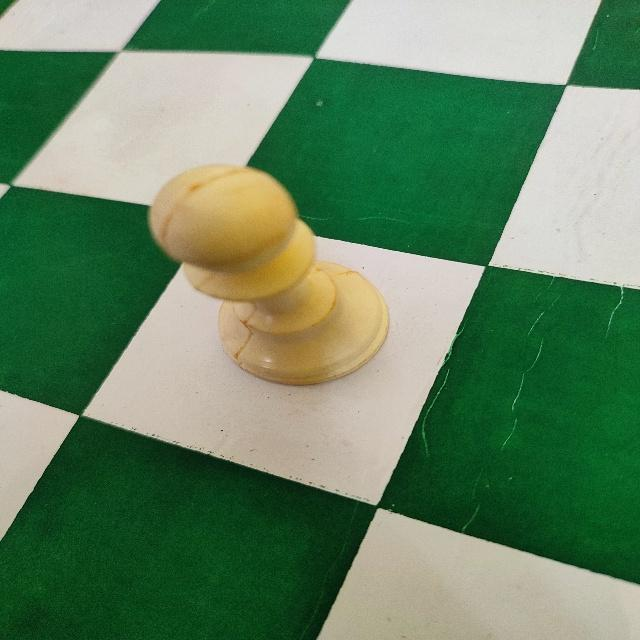Pawn: (142, 160, 398, 392)
